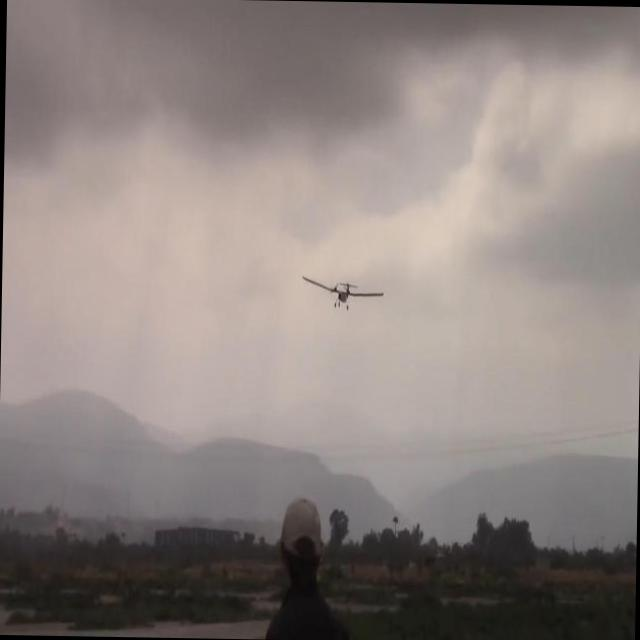UAV: (272, 246, 400, 340)
